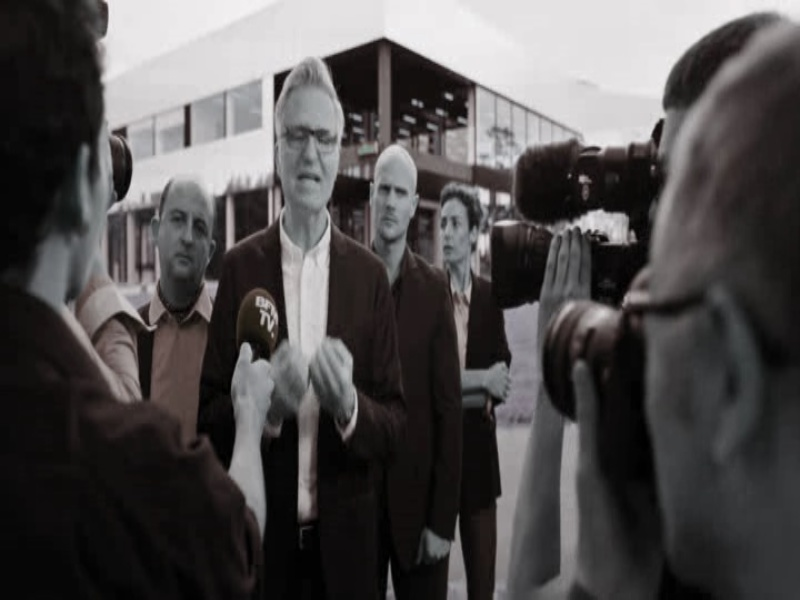TsisyArotava: (268, 60, 351, 221), (145, 169, 227, 290), (368, 141, 426, 255)
